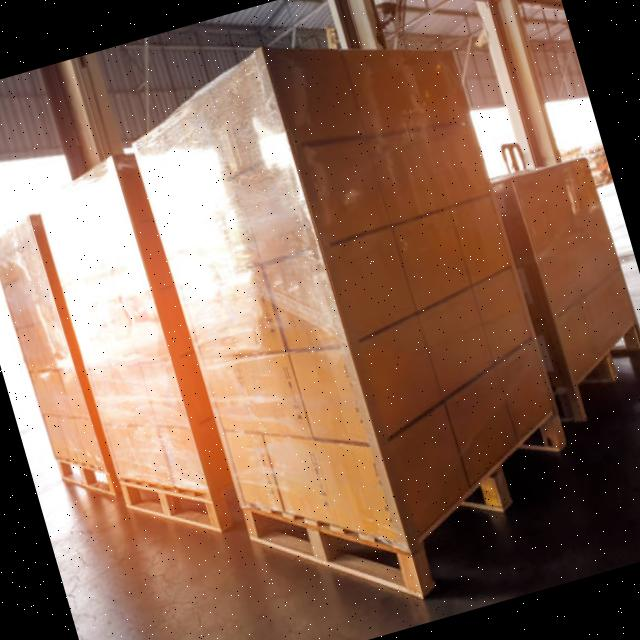Wooden-Pallets: (231, 394, 569, 603), (565, 305, 640, 434), (114, 468, 227, 546), (39, 446, 119, 508)
